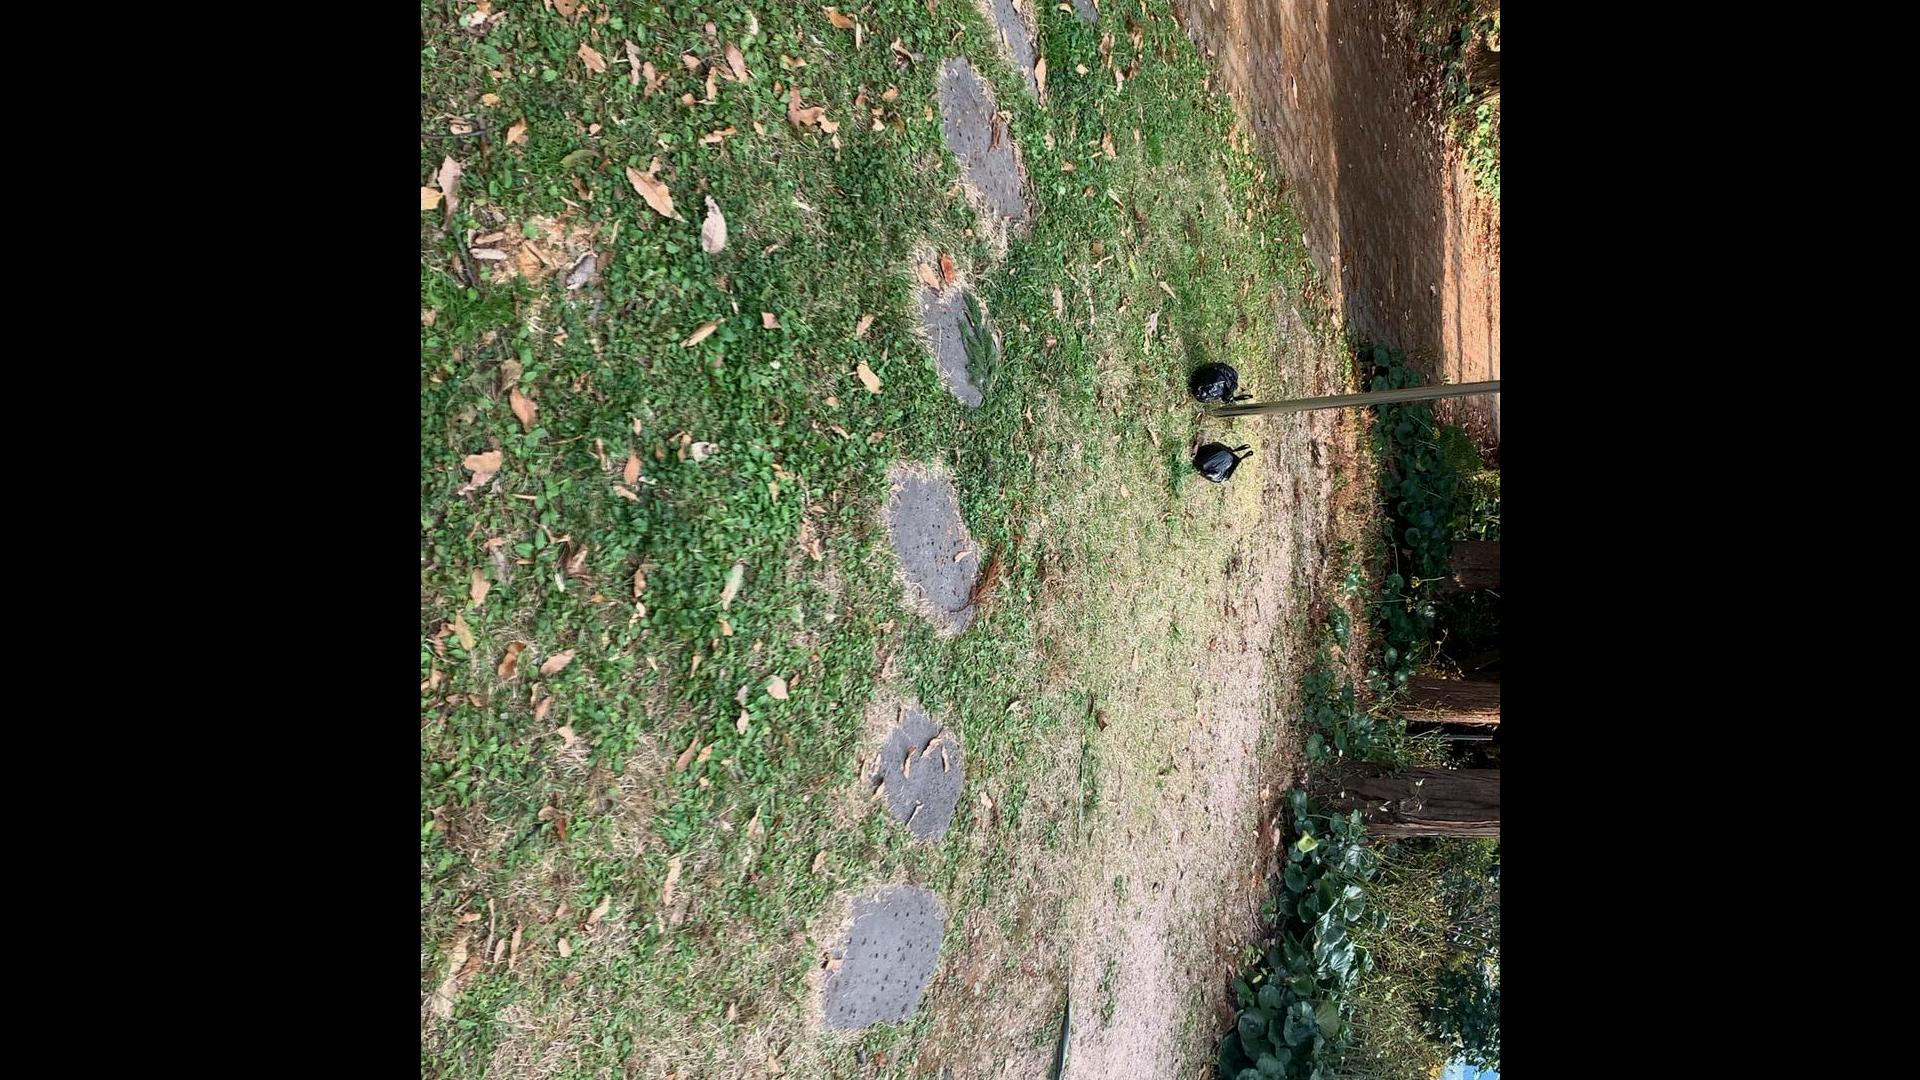black_bag: (1189, 360, 1255, 407), (1191, 439, 1257, 485)
